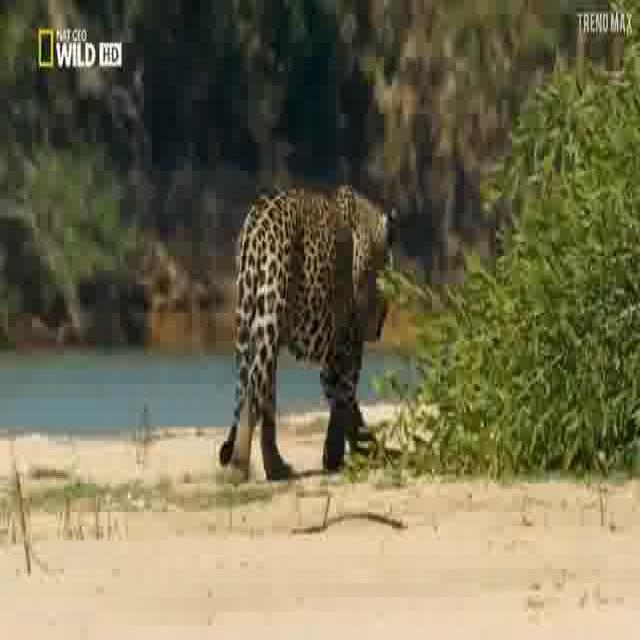Jaguar: (220, 183, 400, 484)
